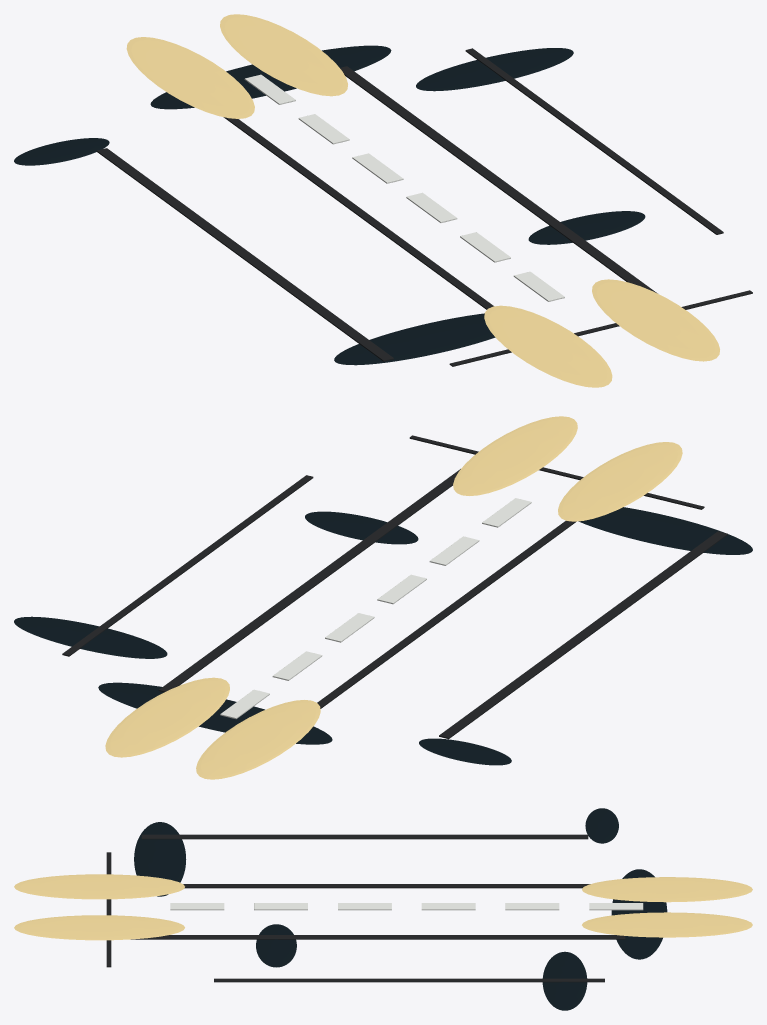
File: wet_road_cinematic_decals_photoreal_proxy.fbx
3 renders of one model, top to bottom at view 1: azimuth 30°, elevation 25°; view 2: azimuth 150°, elevation 25°; view 3: azimuth 270°, elevation 25°, orthographic. The views are drawn at different scales.
Visible parts, largest first — view 1: soft_headlight_reflection_pool_1, soft_headlight_reflection_pool_0, soft_headlight_reflection_pool_2, soft_headlight_reflection_pool_3, irregular_puddle_reflection_0, subtle_wet_tire_sheen_2, subtle_wet_tire_sheen_0, irregular_puddle_reflection_2, subtle_wet_tire_sheen_1, irregular_puddle_reflection_4, subtle_wet_tire_sheen_3, irregular_puddle_reflection_1 (+8 smaller); view 2: soft_headlight_reflection_pool_1, soft_headlight_reflection_pool_3, soft_headlight_reflection_pool_2, soft_headlight_reflection_pool_0, irregular_puddle_reflection_0, subtle_wet_tire_sheen_2, subtle_wet_tire_sheen_0, irregular_puddle_reflection_2, subtle_wet_tire_sheen_1, irregular_puddle_reflection_4, subtle_wet_tire_sheen_3, irregular_puddle_reflection_1 (+8 smaller); view 3: soft_headlight_reflection_pool_0, soft_headlight_reflection_pool_3, soft_headlight_reflection_pool_1, soft_headlight_reflection_pool_2, subtle_wet_tire_sheen_0, irregular_puddle_reflection_0, subtle_wet_tire_sheen_2, subtle_wet_tire_sheen_1, irregular_puddle_reflection_2, subtle_wet_tire_sheen_3, irregular_puddle_reflection_4, irregular_puddle_reflection_1 (+8 smaller).
Part boxes in pixels (x1,y1,x2,y2): soft_headlight_reflection_pool_1: (592,279,719,361); soft_headlight_reflection_pool_0: (484,305,612,387); soft_headlight_reflection_pool_2: (126,37,254,118); soft_headlight_reflection_pool_3: (220,14,347,96); irregular_puddle_reflection_0: (334,313,495,365); subtle_wet_tire_sheen_2: (340,66,657,293); subtle_wet_tire_sheen_0: (96,148,393,361); irregular_puddle_reflection_2: (416,48,573,91); subtle_wet_tire_sheen_1: (223,117,493,309); irregular_puddle_reflection_4: (150,45,391,109); subtle_wet_tire_sheen_3: (465,48,723,234); irregular_puddle_reflection_1: (528,211,645,244); soft_headlight_reflection_pool_1: (453,416,577,495); soft_headlight_reflection_pool_3: (105,677,229,757); soft_headlight_reflection_pool_2: (196,700,320,779); soft_headlight_reflection_pool_0: (558,442,682,521); irregular_puddle_reflection_0: (578,507,752,554); subtle_wet_tire_sheen_2: (158,469,460,692); subtle_wet_tire_sheen_0: (439,531,727,738); irregular_puddle_reflection_2: (14,616,167,658); subtle_wet_tire_sheen_1: (317,521,576,708); irregular_puddle_reflection_4: (98,682,332,744); subtle_wet_tire_sheen_3: (62,475,313,656); irregular_puddle_reflection_1: (305,511,418,544); soft_headlight_reflection_pool_0: (14,874,184,899); soft_headlight_reflection_pool_3: (582,912,752,937); soft_headlight_reflection_pool_1: (14,915,184,940); soft_headlight_reflection_pool_2: (582,877,752,902); subtle_wet_tire_sheen_0: (141,834,588,839); irregular_puddle_reflection_0: (134,822,186,896); subtle_wet_tire_sheen_2: (131,935,625,939); subtle_wet_tire_sheen_1: (183,884,590,888); irregular_puddle_reflection_2: (542,951,587,1010); subtle_wet_tire_sheen_3: (214,978,604,982); irregular_puddle_reflection_4: (611,869,667,959); irregular_puddle_reflection_1: (256,924,296,967).
Bounding box in the file's own units: 515 × 3.4 × 794.
